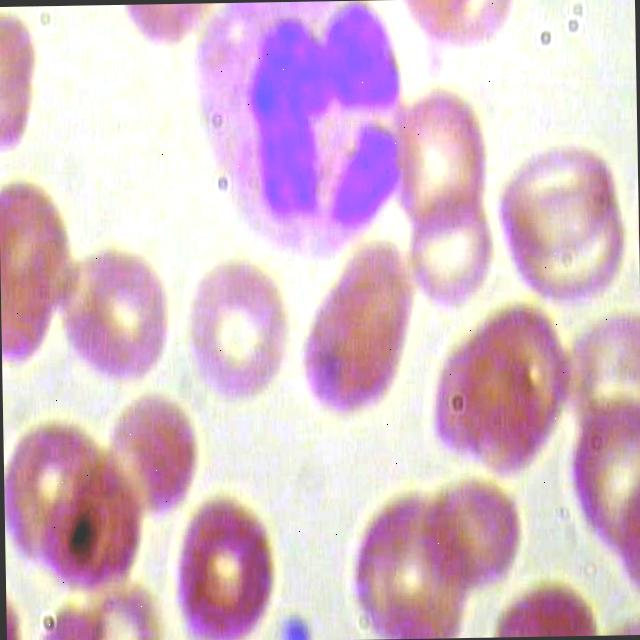RBC: (290, 226, 424, 424), (455, 303, 580, 482), (176, 240, 295, 406), (169, 488, 283, 640), (391, 80, 490, 242), (496, 138, 622, 263), (57, 245, 169, 382), (418, 475, 526, 609), (102, 387, 202, 527), (0, 172, 67, 369), (400, 200, 496, 312)
WBC: (184, 0, 418, 270)
